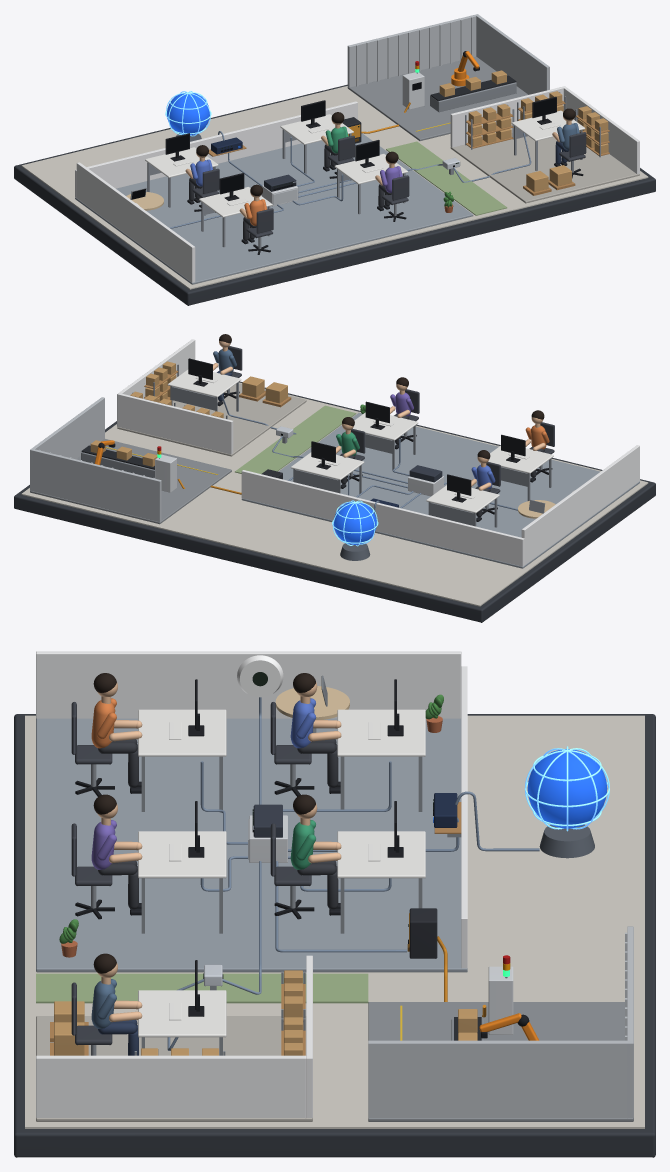
The model's file is netdev-office.glb.
The picture shows the model from 3 angles, top to bottom: view 1: azimuth 30°, elevation 25°; view 2: azimuth 150°, elevation 25°; view 3: azimuth 270°, elevation 25°; orthographic projection. The views are drawn at different scales.
Visible parts, largest first — view 1: Static, Net_Globe; view 2: Static, Net_Globe; view 3: Static, Net_Globe, Part_GW, Part_AP, Part_Switch, Part_Router.
Part boxes in pixels (x1,y1,x2,y2): Static: (14,14,655,305); Net_Globe: (165,91,211,136); Static: (14,334,655,622); Net_Globe: (332,500,378,546); Static: (14,651,655,1157); Net_Globe: (524,746,609,831); Part_GW: (407,908,437,958); Part_AP: (237,655,283,697); Part_Switch: (252,804,282,837); Part_Router: (433,793,457,827).
Bounding box in the file's own units: 1.8 × 0.2942 × 1.16.
